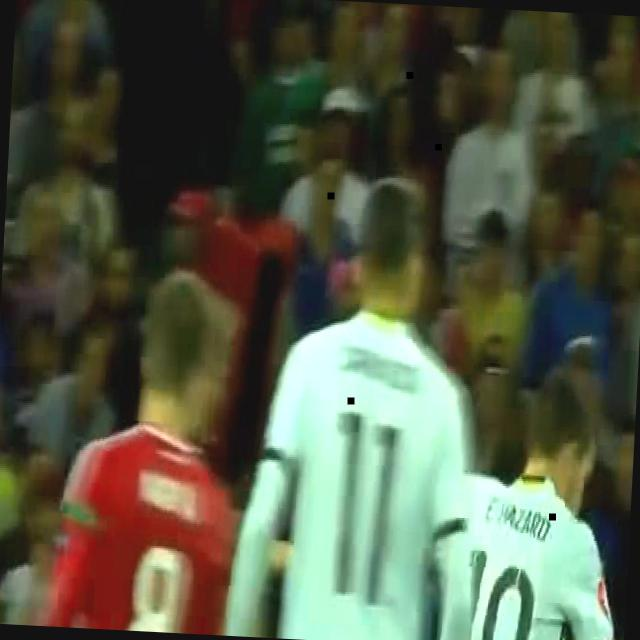player-white: (225, 162, 490, 640), (0, 265, 250, 635), (379, 350, 638, 640)
